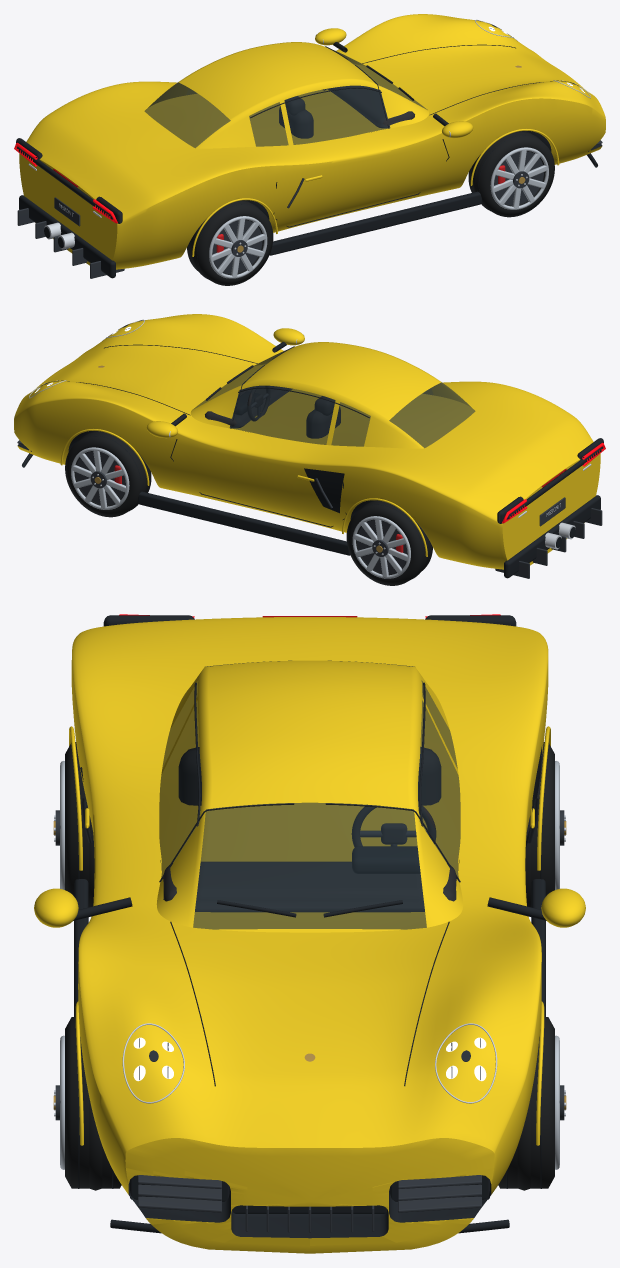
File: 718-cayman.glb
3 views of the same model, one above another, from view 1: azimuth 30°, elevation 25°; view 2: azimuth 150°, elevation 25°; view 3: azimuth 270°, elevation 25° (orthographic). The views are drawn at different scales.
Visible parts, largest first — view 1: 718-cayman • body details.007, wheel_FR.046, wheel_RR.046; view 2: 718-cayman • body details.007, wheel_FL.046, wheel_RL.046, steering_wheel.014; view 3: 718-cayman • body details.007, wheel_FL.046, wheel_FR.046, wheel_RR.046, wheel_RL.046, steering_wheel.014.
Part boxes in pixels (<box>): 718-cayman • body details.007: <box>14,14,605,278</box>; wheel_FR.046: <box>468,131,554,217</box>; wheel_RR.046: <box>187,200,273,285</box>; 718-cayman • body details.007: <box>14,314,605,578</box>; wheel_FL.046: <box>65,431,151,517</box>; wheel_RL.046: <box>346,500,432,585</box>; steering_wheel.014: <box>247,386,269,421</box>; 718-cayman • body details.007: <box>34,614,585,1253</box>; wheel_FL.046: <box>498,1017,566,1190</box>; wheel_FR.046: <box>53,1017,121,1190</box>; wheel_RR.046: <box>53,742,94,907</box>; wheel_RL.046: <box>525,742,566,907</box>; steering_wheel.014: <box>352,803,435,846</box>.
Size of the model in its own units: 4.53 by 1.3 by 2.1.
